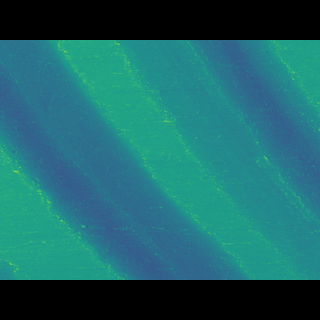Loch: (0, 69, 254, 251), (182, 68, 319, 209)
